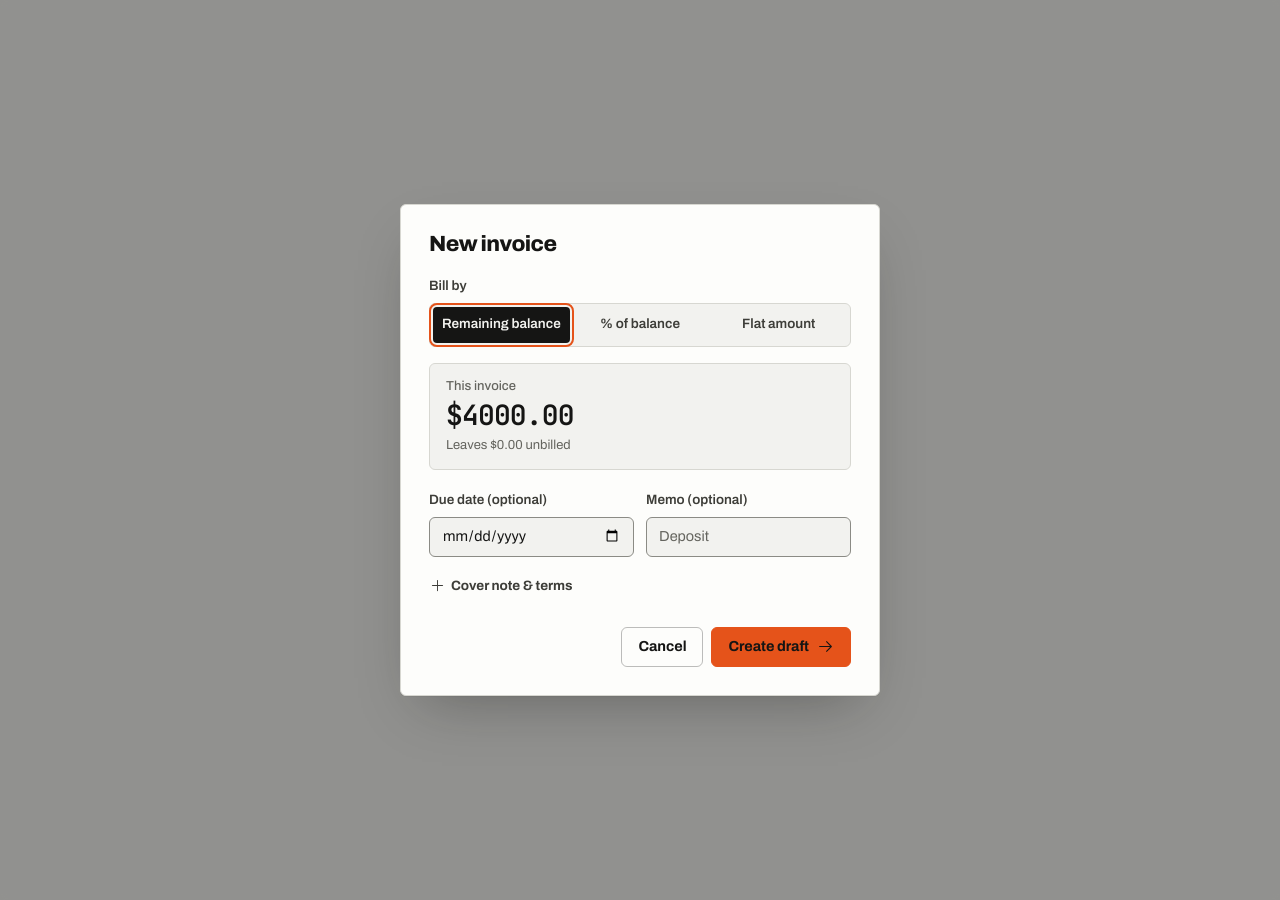
Test: CreateInvoiceDialog › warns when a flat amount exceeds the unbilled balance
Click the button "Flat amount": (779, 324) [710, 306, 847, 342]
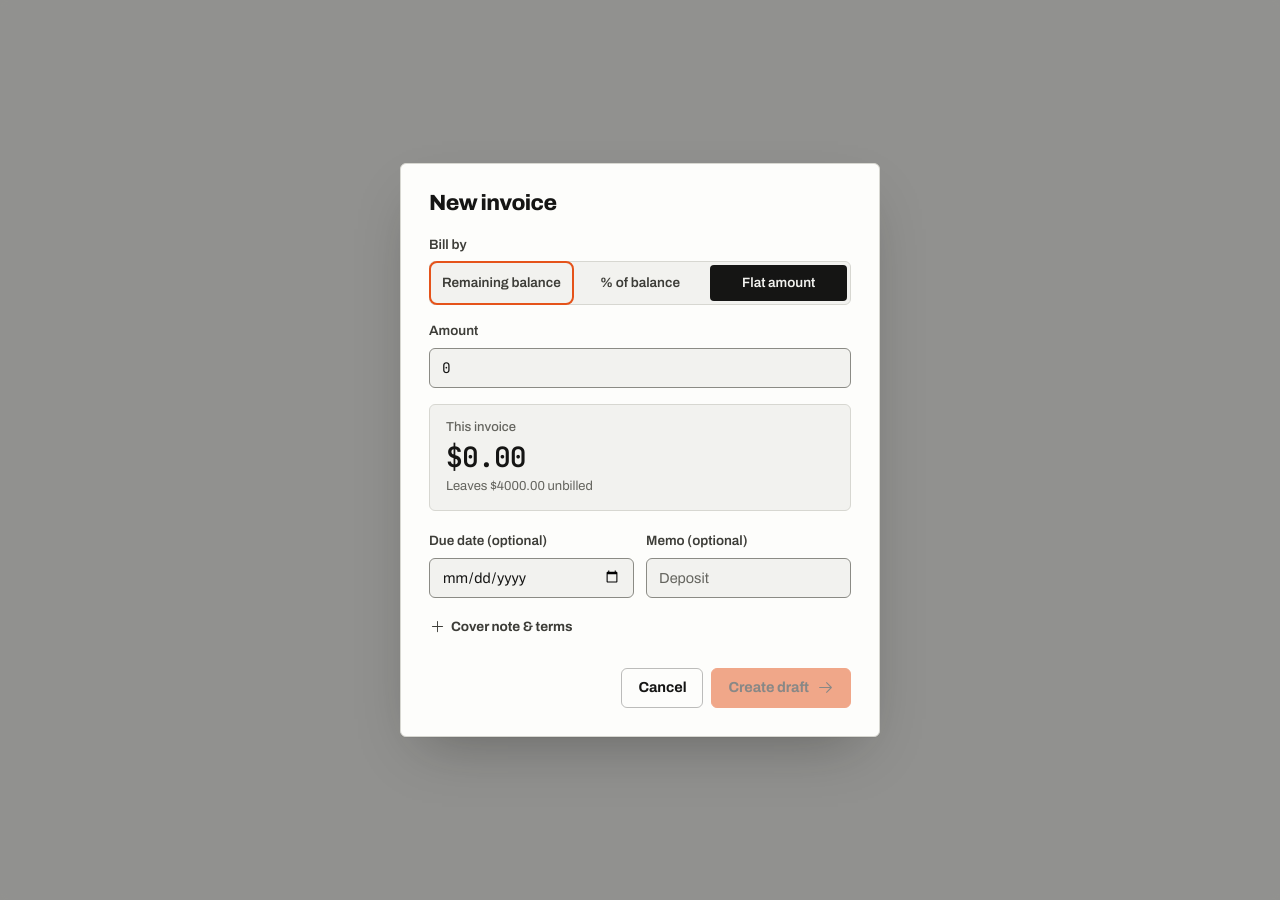
Replace the text in the number field labelled "Amount" with "9999": (640, 368) [429, 348, 851, 388]
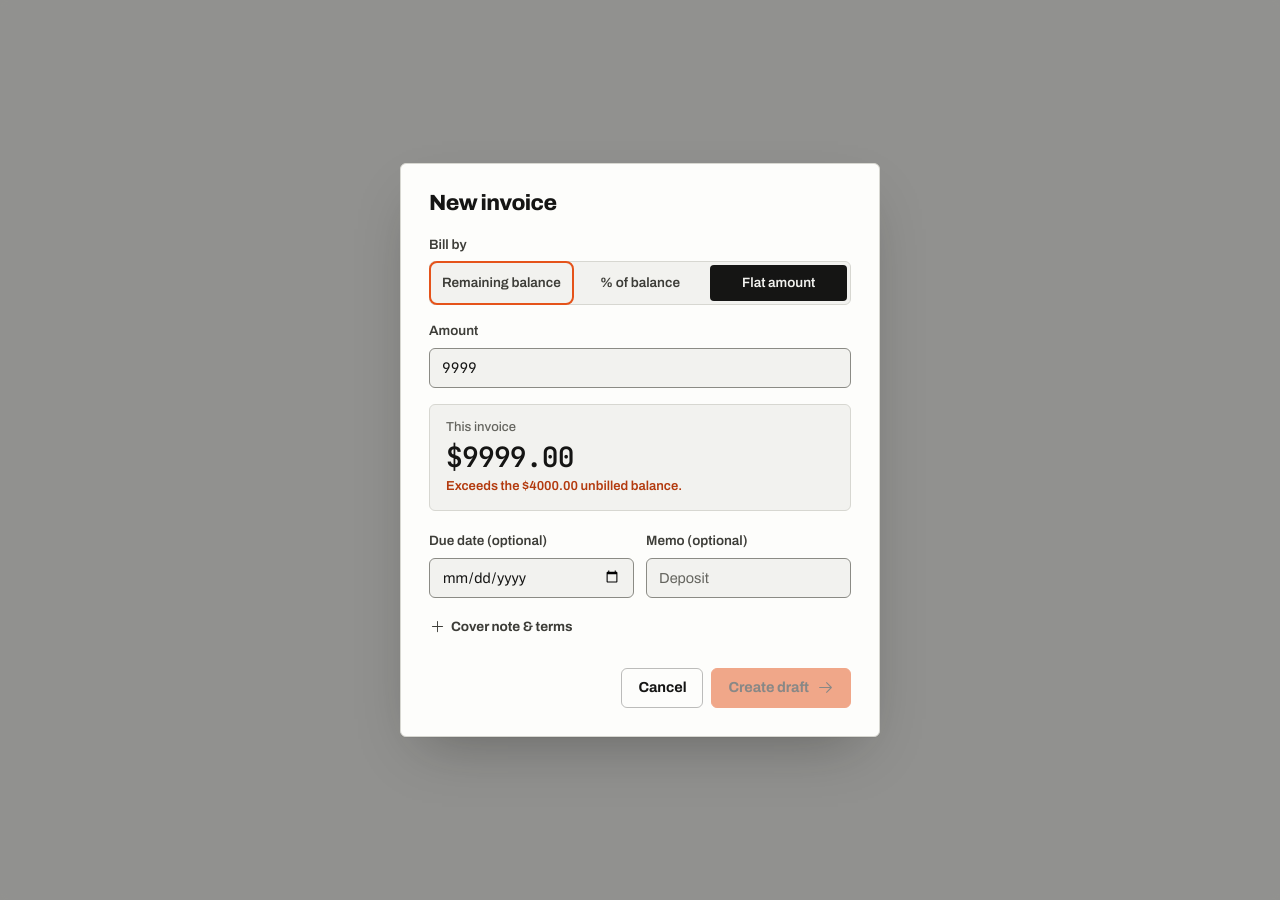
Now the text "Exceeds the $4000.00 unbilled balance." is shown, box [446, 479, 682, 493]
